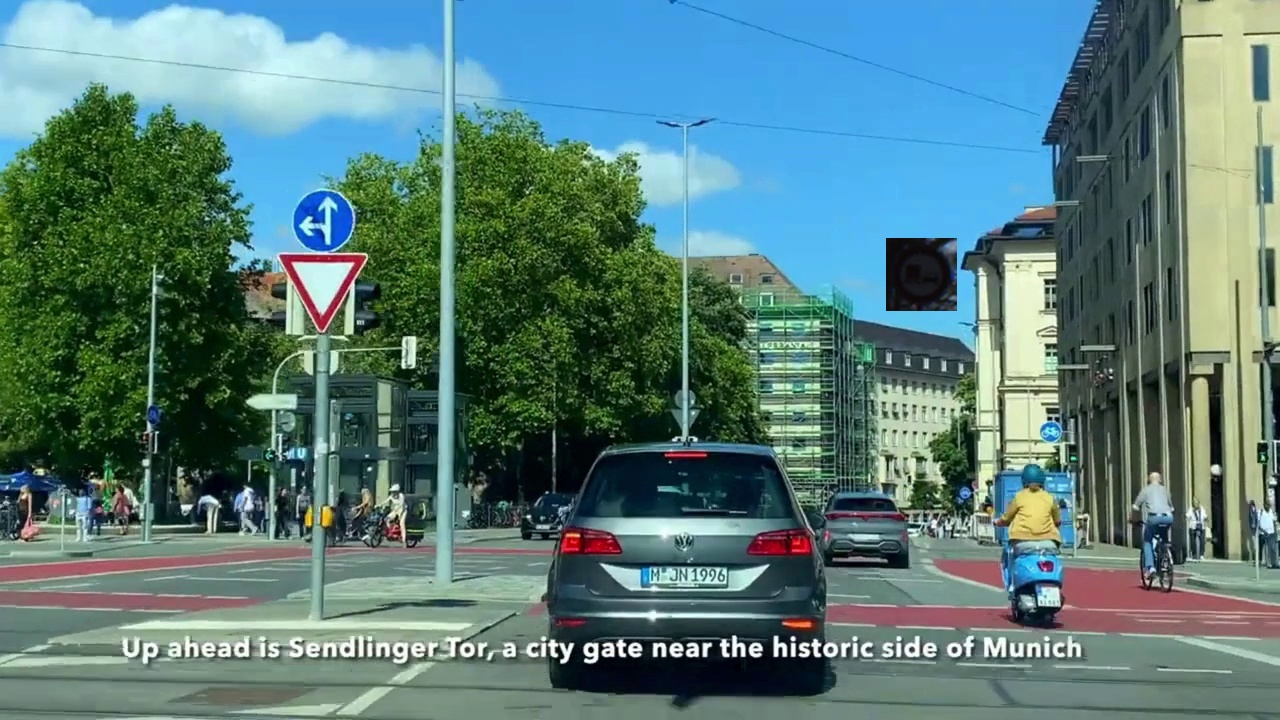No pass >3.5t: (886, 238, 957, 311)
